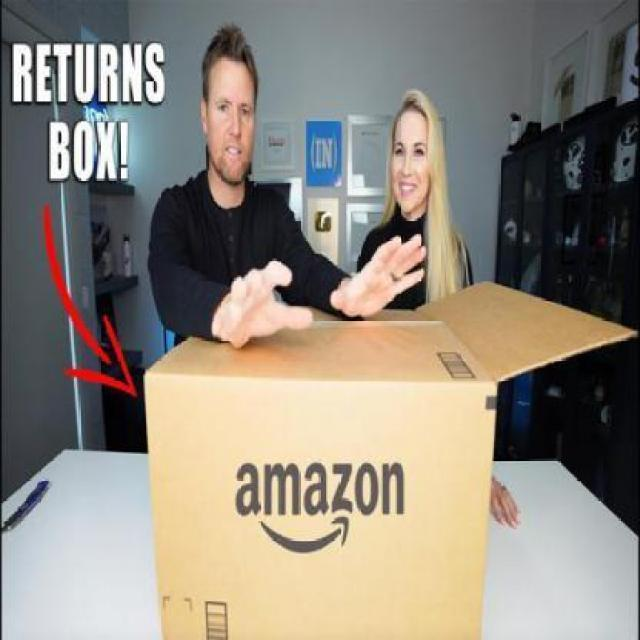box: (143, 291, 571, 640)
